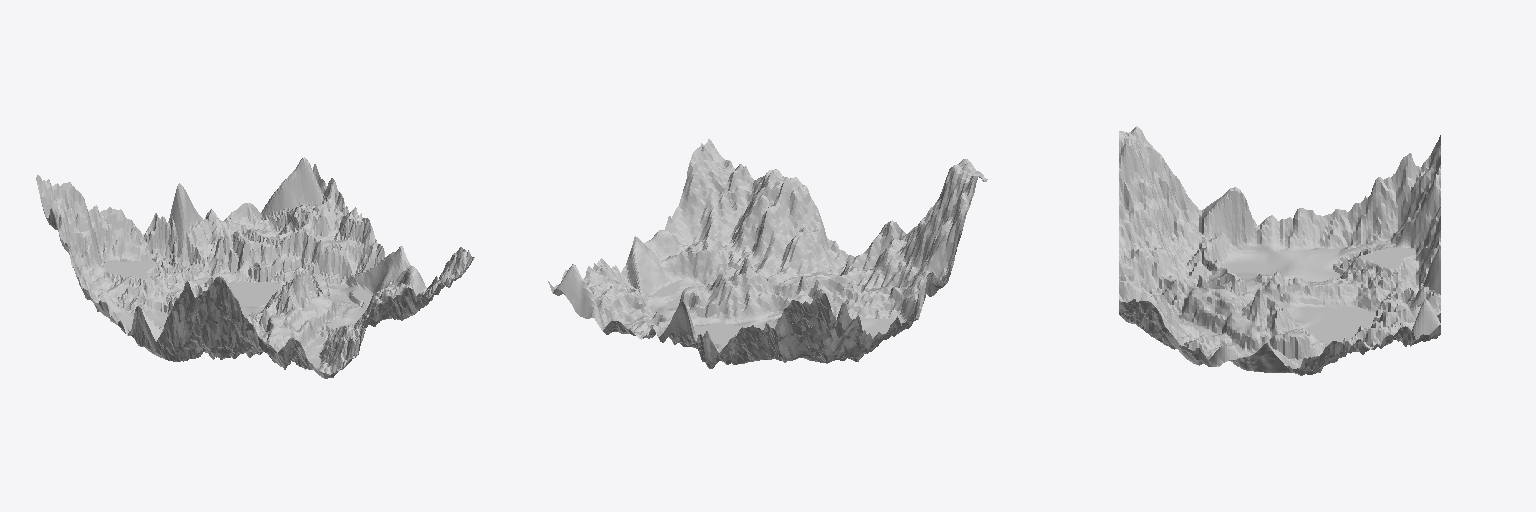
The model's file is Terrain.obj.
3 views of the same model, side by side, from view 1: azimuth 30°, elevation 25°; view 2: azimuth 150°, elevation 25°; view 3: azimuth 270°, elevation 25° (orthographic).
Bounding box in the file's own units: 256 × 117 × 256.